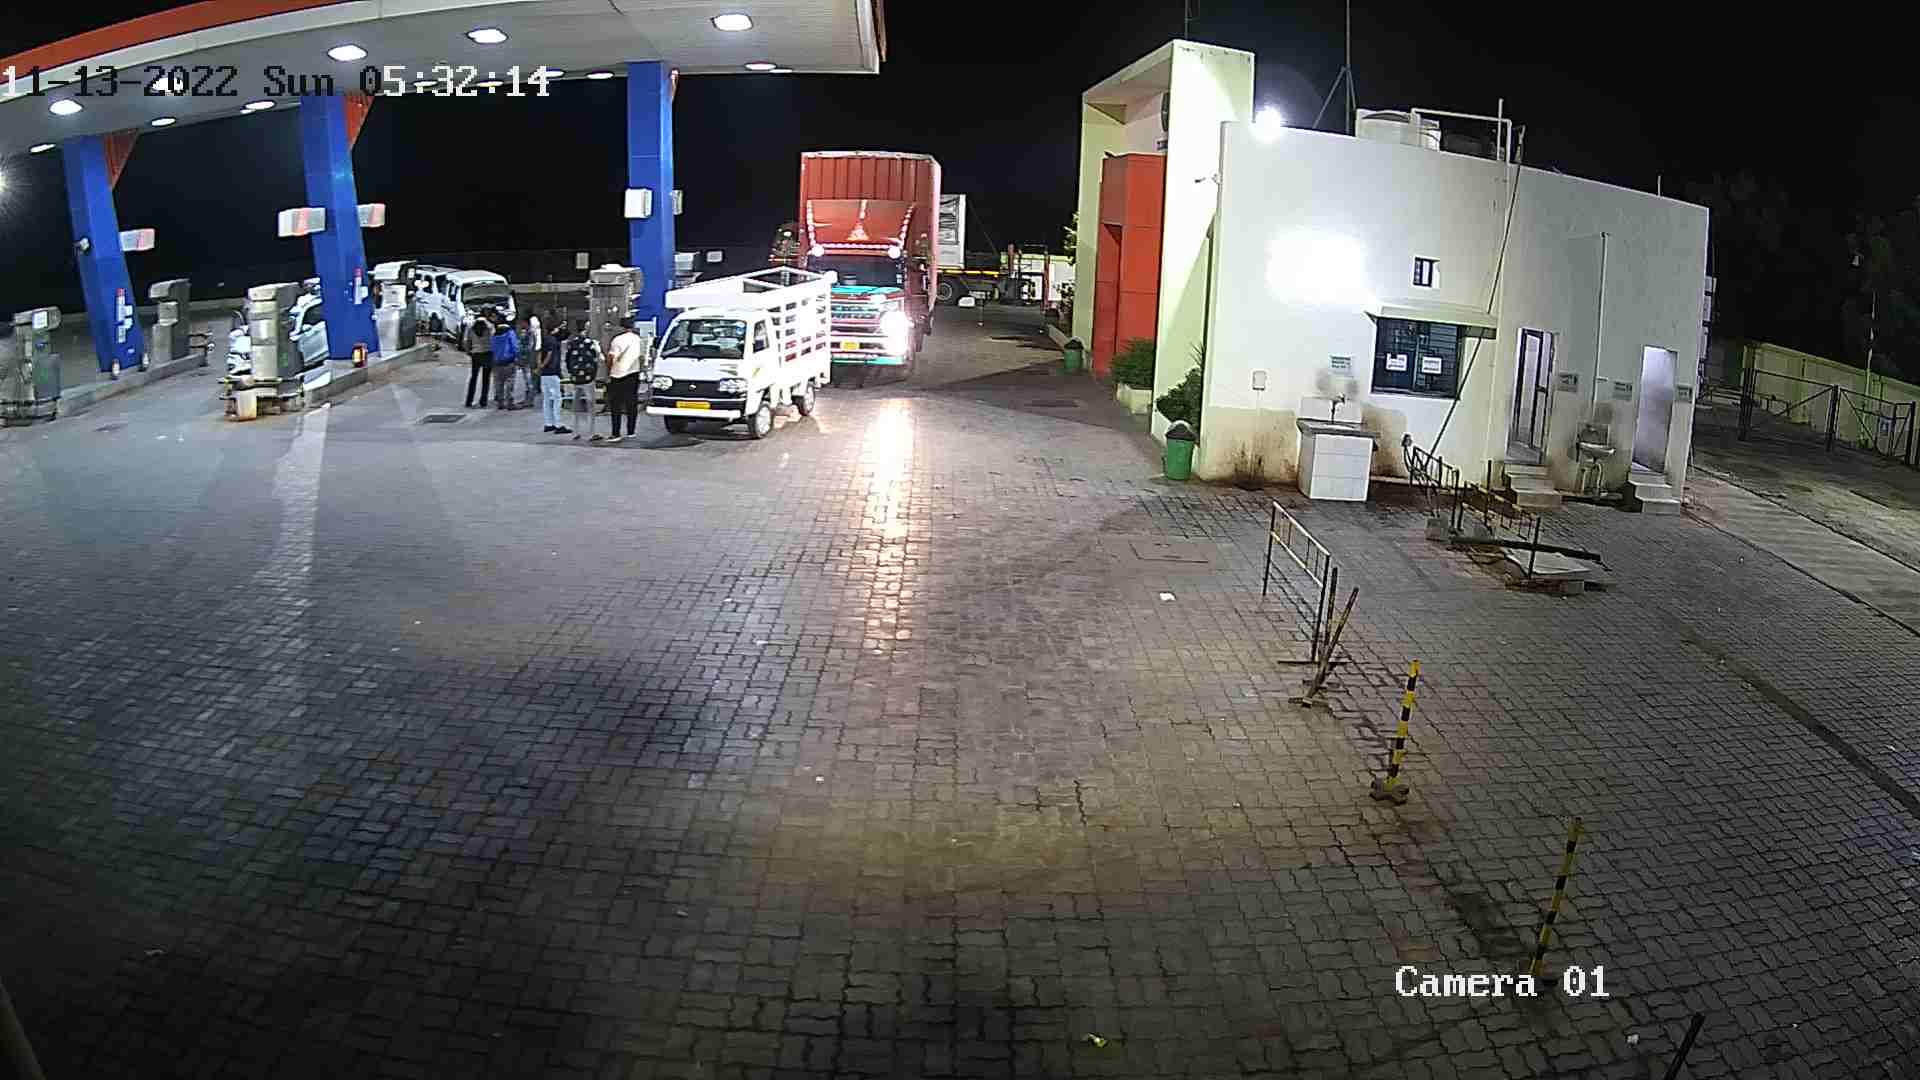Car: (637, 251, 845, 446), (219, 276, 336, 386), (429, 264, 520, 351), (402, 253, 458, 340)
HMV: (777, 133, 949, 394), (934, 177, 1043, 305)
